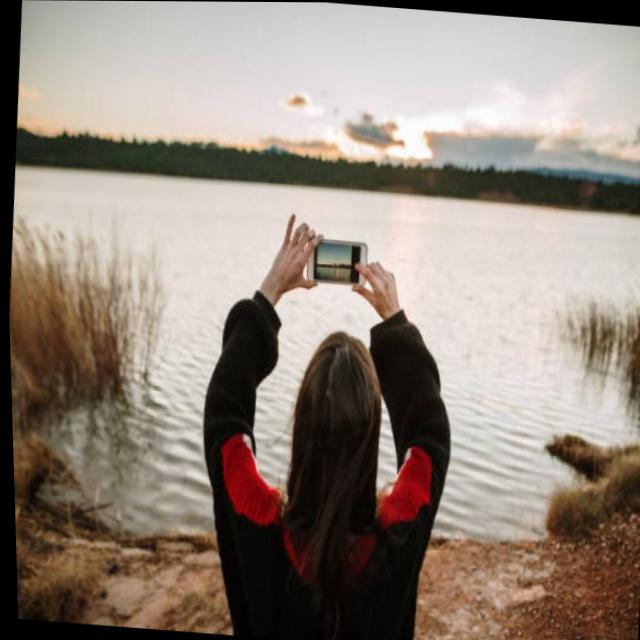no helmet: (287, 323, 385, 522)
